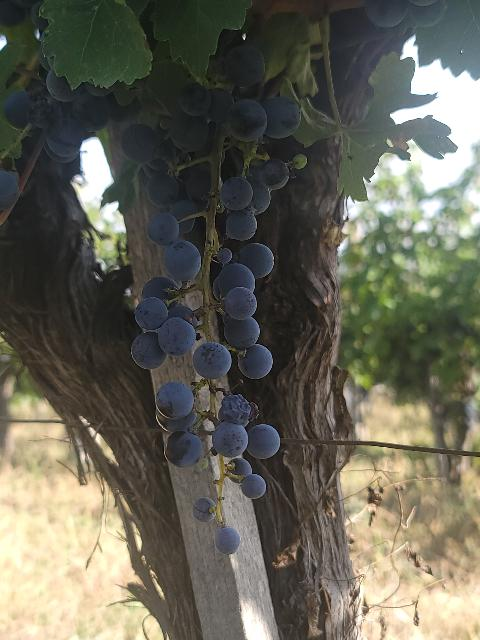grapes: (121, 84, 306, 499)
